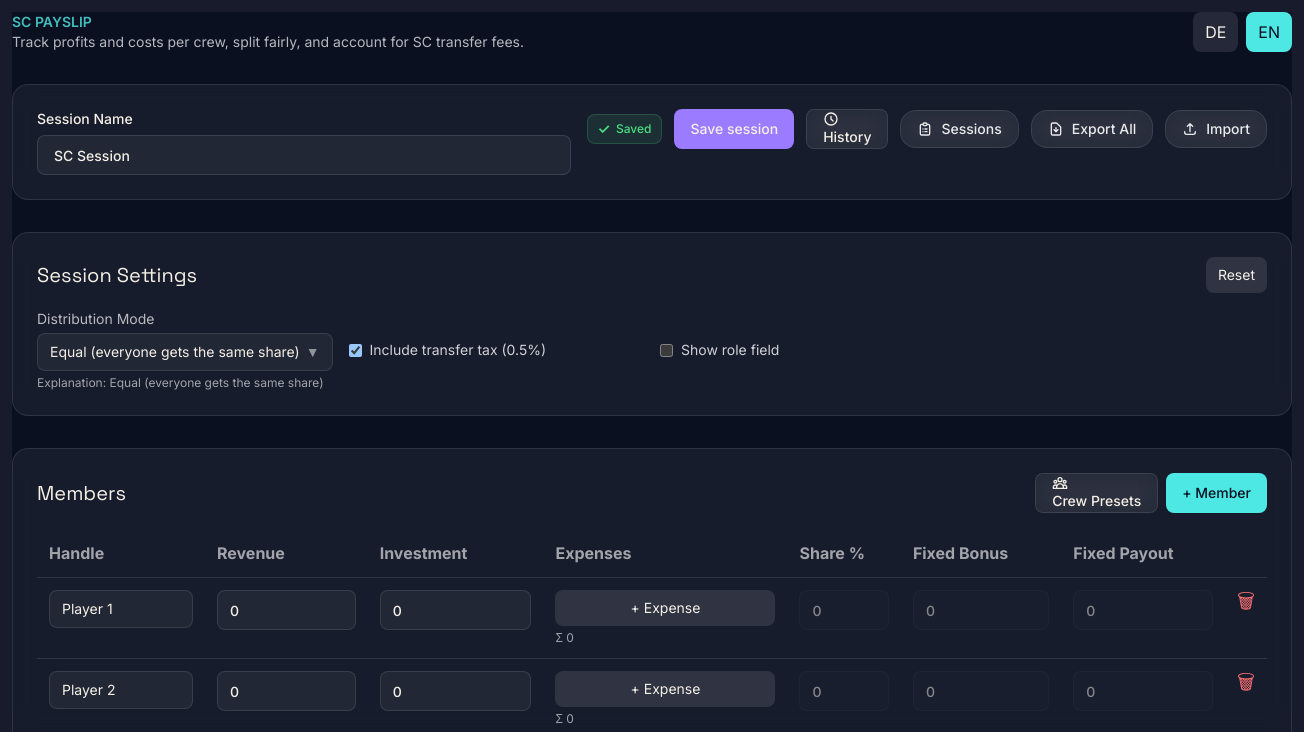
Test: SessionWizard - Language Switching › should switch from English to German when DE button is clicked
Expected: the heading "Members" is shown, [37,479,126,507]
Click the button with aria-label "Switch to German": coordinates (1216, 32) [1193,12,1238,52]
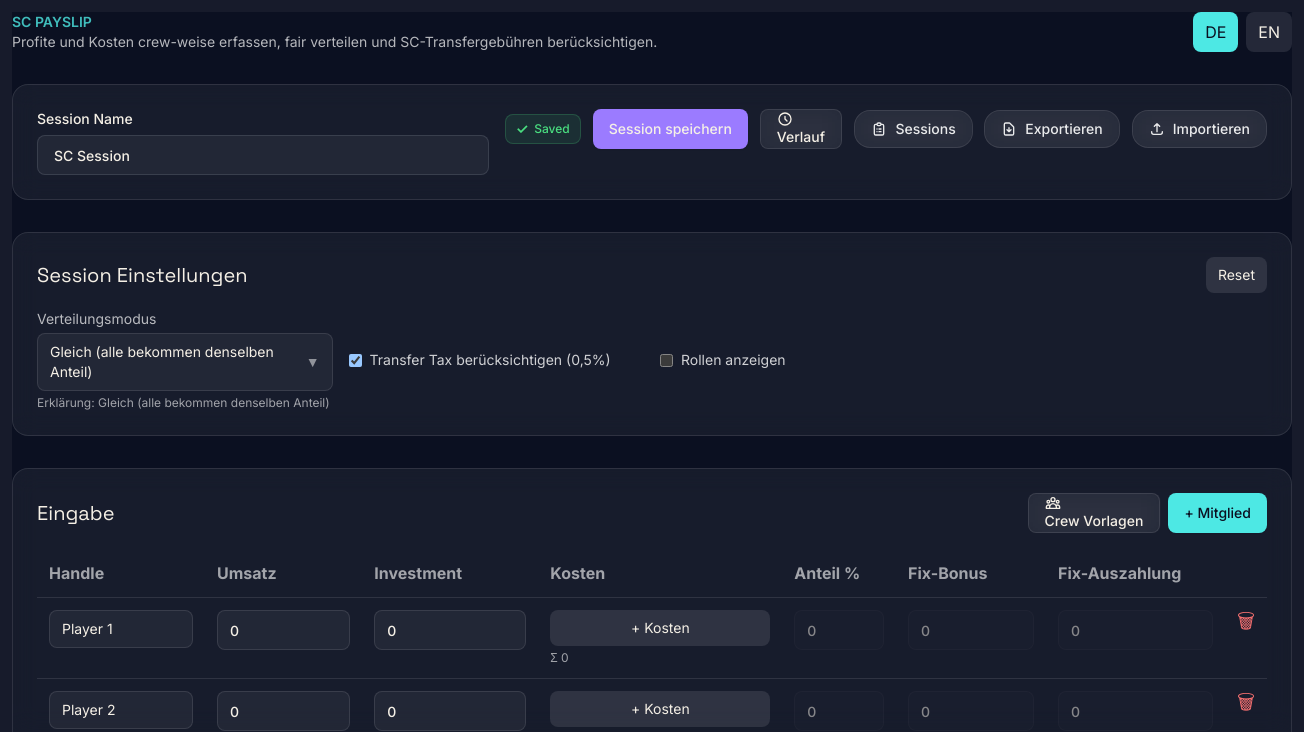
Expected: the heading "Eingabe" is shown, [37,499,114,527]
Expected: the heading "Members" is gone
